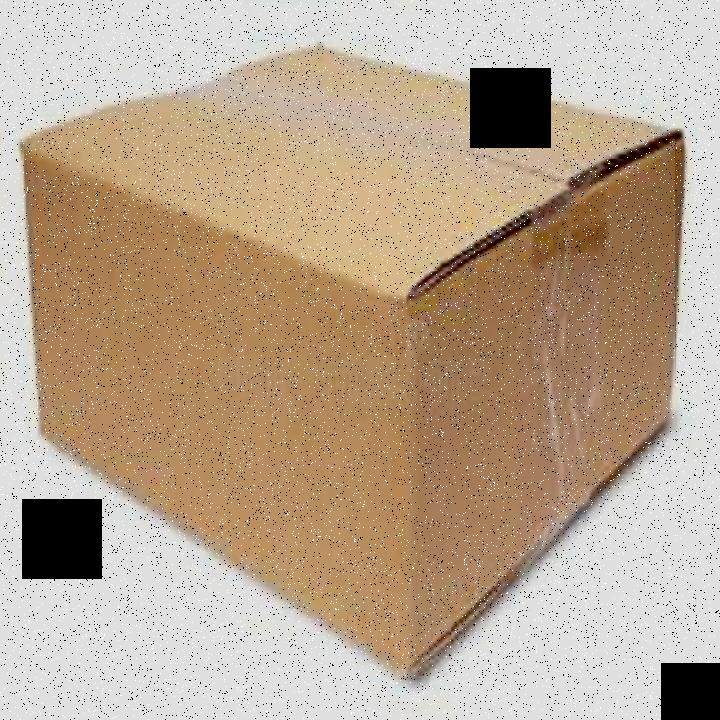box: (23, 45, 675, 678)
